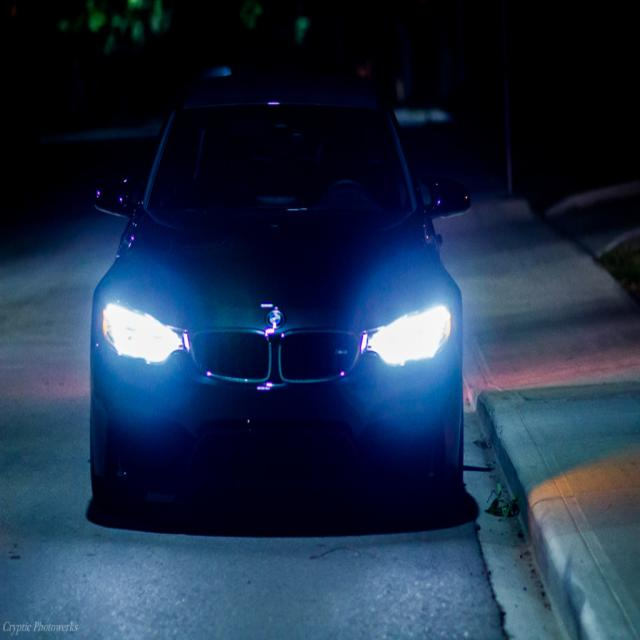car: (78, 74, 471, 550)
